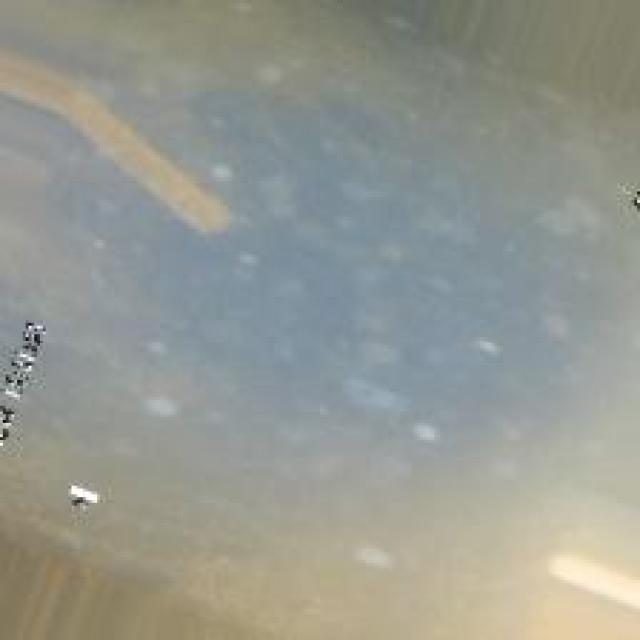ferrule: (54, 77, 260, 240)
